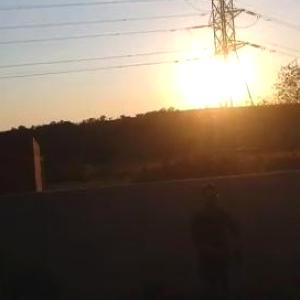follow: (186, 173, 254, 299)
